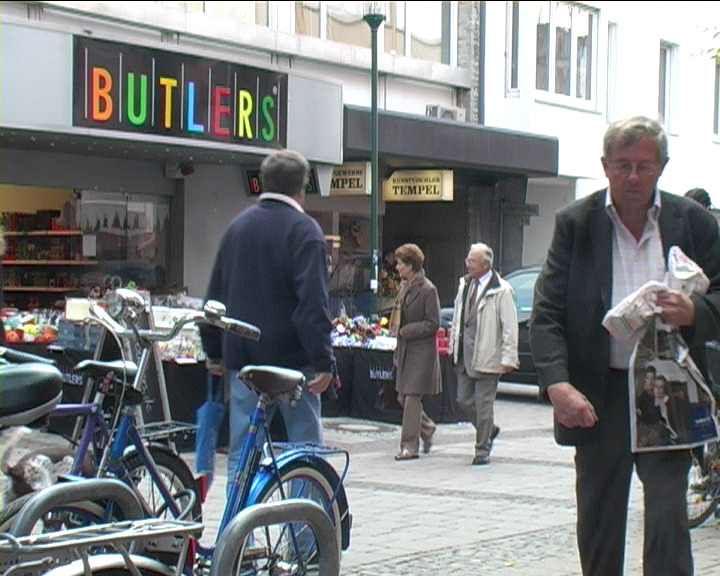undeflect: (566, 125, 711, 272), (458, 241, 520, 312)
